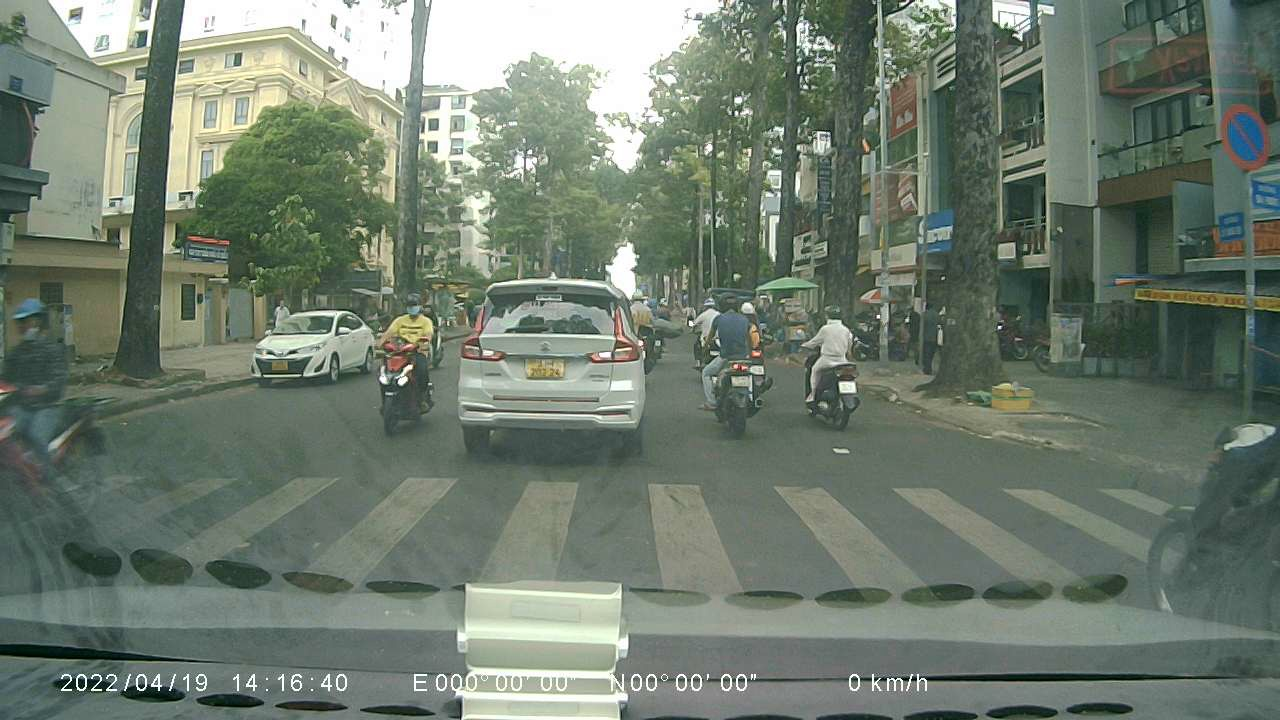Cam do xe: (1217, 103, 1272, 171)
